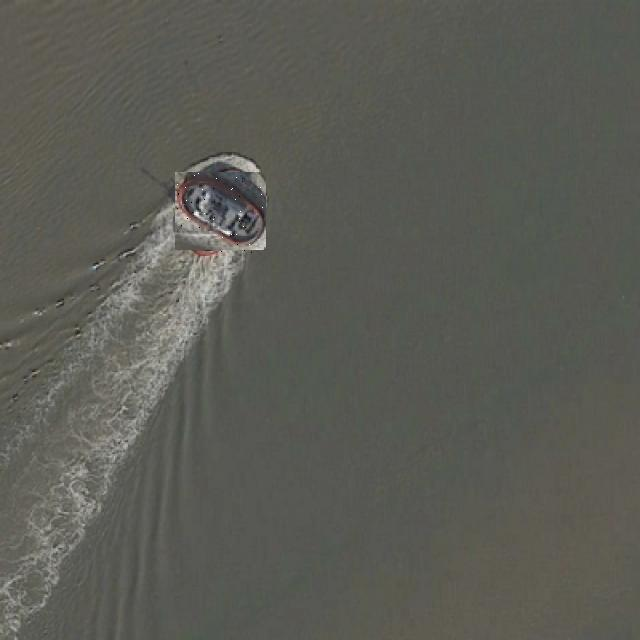boat: (177, 169, 263, 254)
